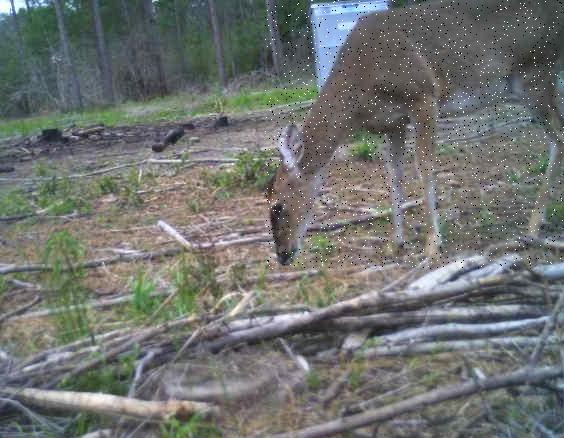Deer: (265, 0, 564, 269)
